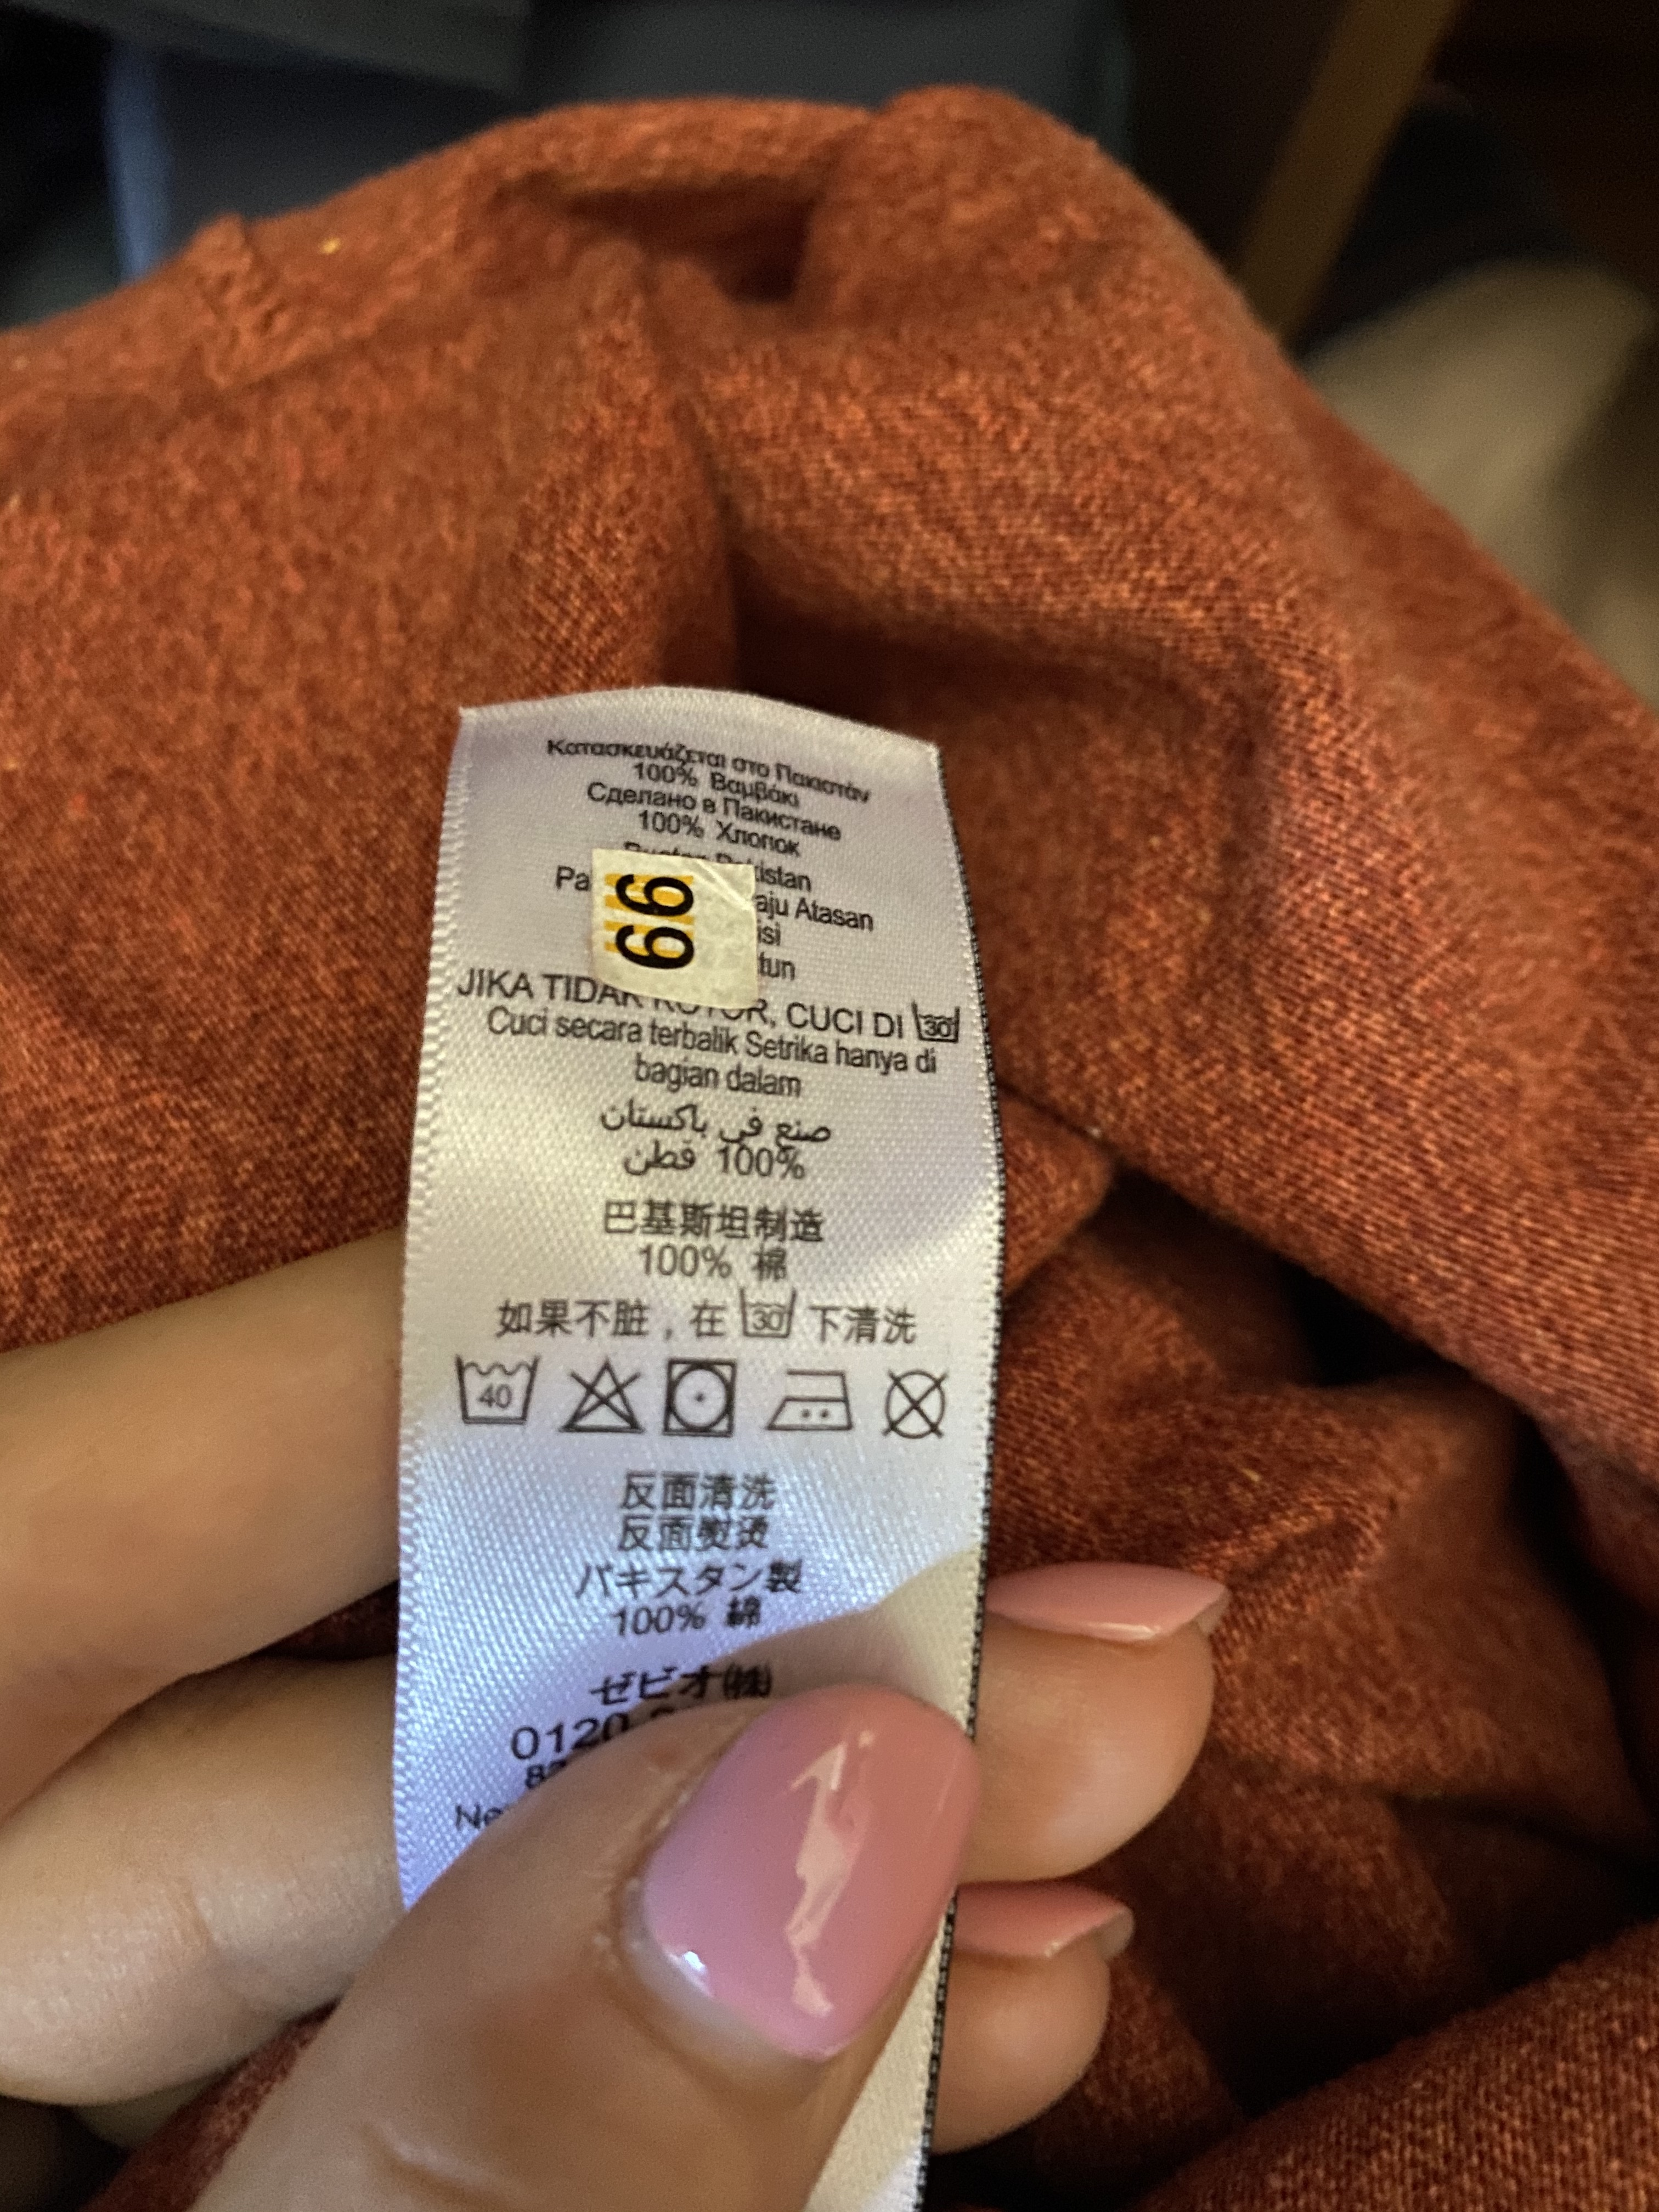do_not_bleach: (556, 1350, 650, 1439)
do_not_dry_clean: (878, 1355, 960, 1454)
ironing_at_med_temp: (755, 1353, 870, 1449)
tumble_drying_low_temps: (657, 1350, 744, 1446)
wash_at_or_below_40: (448, 1350, 545, 1430)
